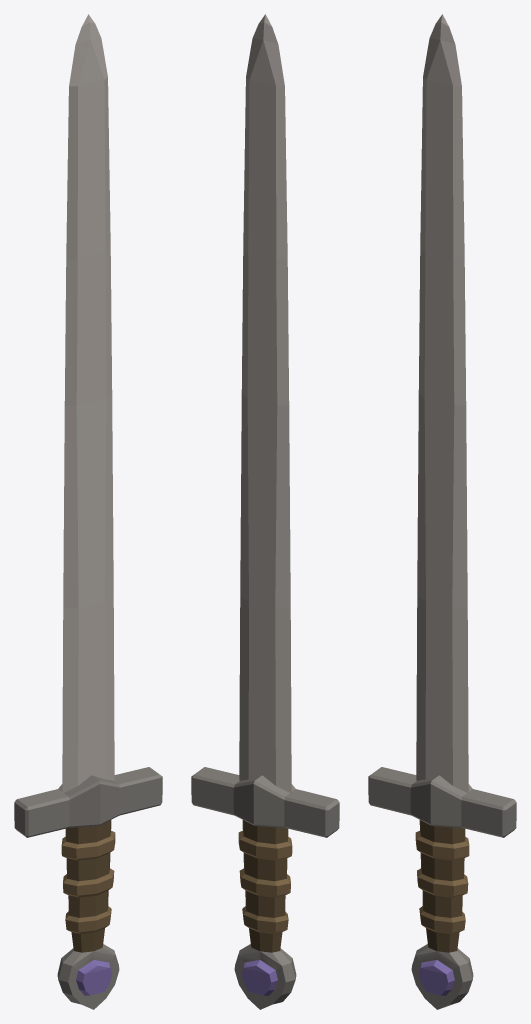
File: SM_pwe_medieval_sword_02.fbx
3 views of the same model, side by side, from view 1: azimuth 30°, elevation 25°; view 2: azimuth 150°, elevation 25°; view 3: azimuth 330°, elevation 25° (orthographic).
Parts seen in each view (by area): view 1: SM_pwe_medieval_sword_02; view 2: SM_pwe_medieval_sword_02; view 3: SM_pwe_medieval_sword_02.
Boxes of the visible parts, x1,y1,x2,y2 form: SM_pwe_medieval_sword_02: [14, 14, 162, 1009]; SM_pwe_medieval_sword_02: [191, 14, 339, 1009]; SM_pwe_medieval_sword_02: [368, 14, 516, 1009].
Size of the model in its own units: 14.72 by 101 by 4.41.
